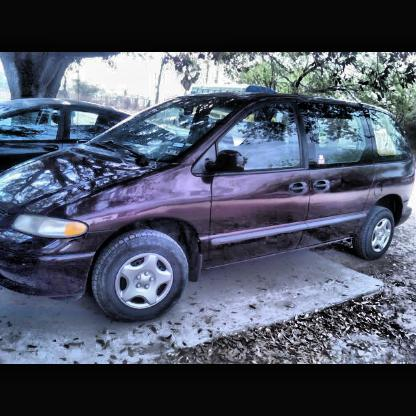Dodge Caravan Minivan 1997: (2, 86, 416, 324)
